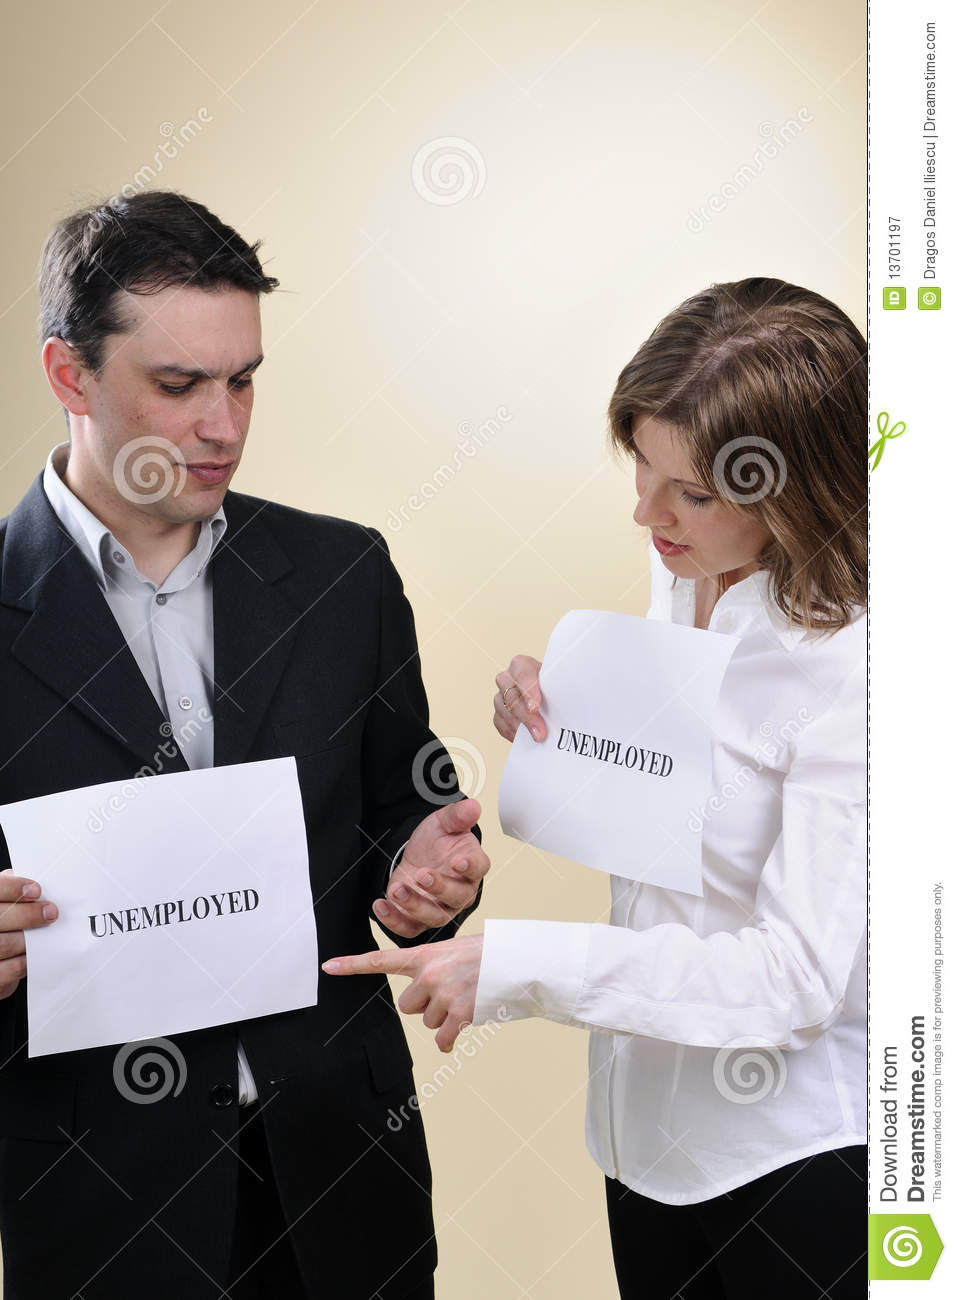person: (481, 252, 873, 903), (8, 196, 400, 792)
